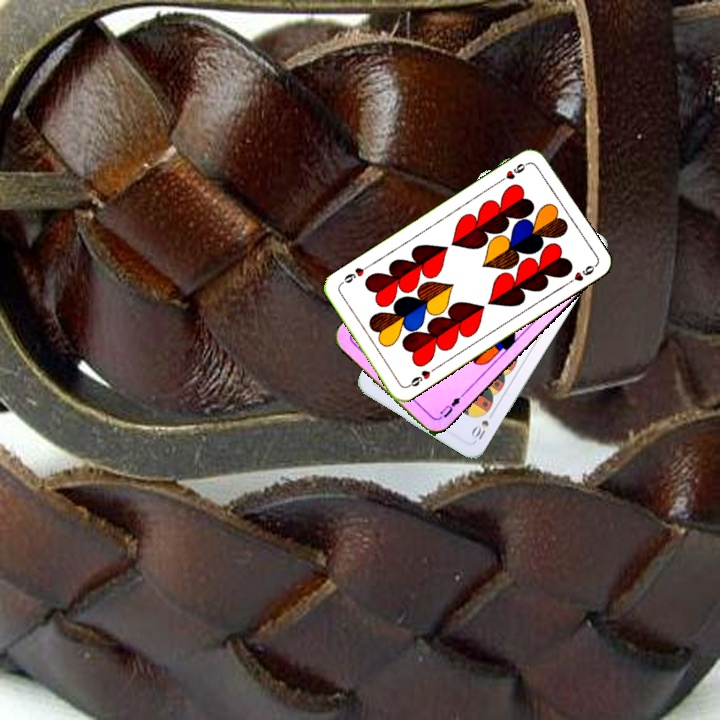EU: (436, 390, 466, 420)
H9: (403, 363, 439, 391), (495, 158, 531, 185)
S10: (467, 416, 492, 444)
